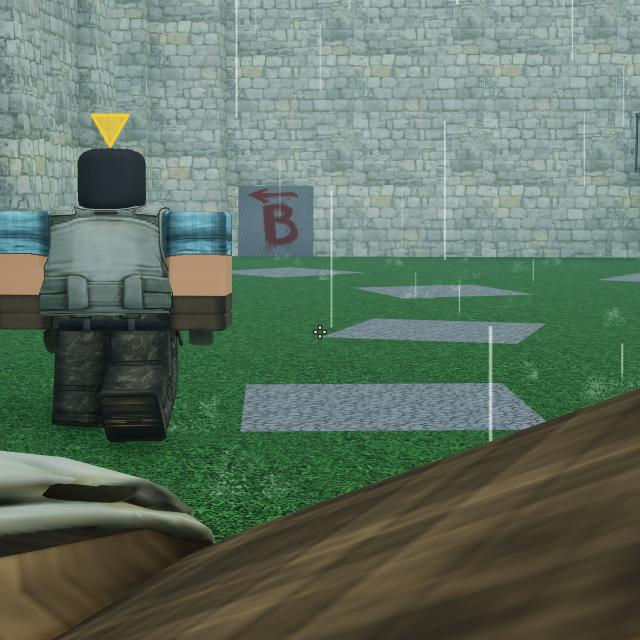Head: (77, 147, 146, 208)
Player: (0, 148, 232, 443)
